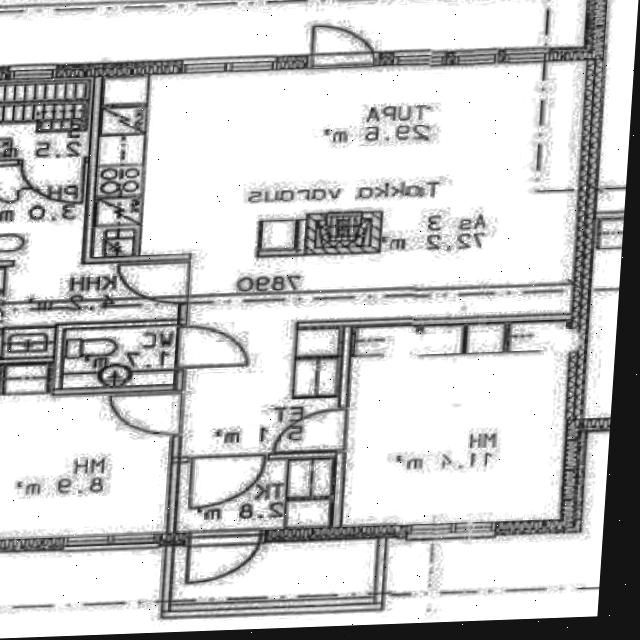room: (336, 322, 577, 526), (0, 364, 175, 539), (0, 260, 186, 358), (173, 457, 337, 531), (0, 162, 89, 261), (59, 325, 181, 389), (0, 79, 95, 160)
